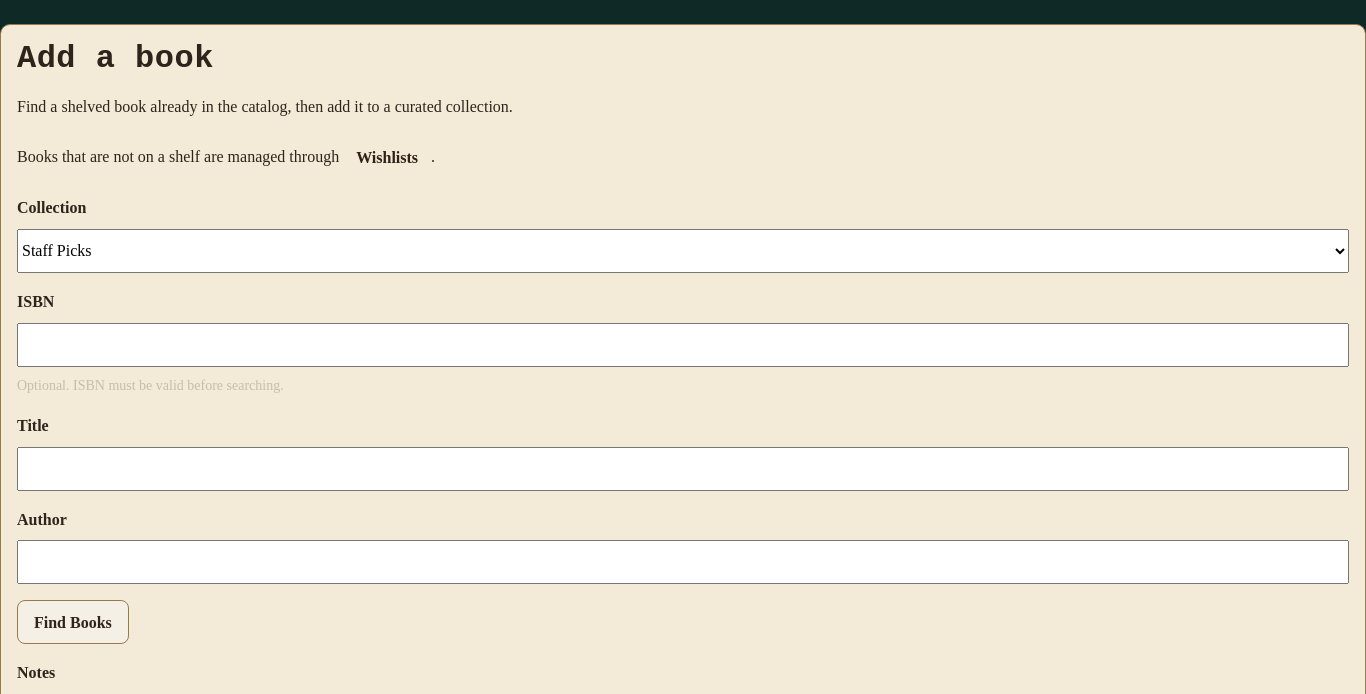
Test: AddCollectionBookControl › rejects an invalid ISBN before searching
Type "123" into the field labelled "ISBN" at point(683, 345), box [17,323,1349,367]
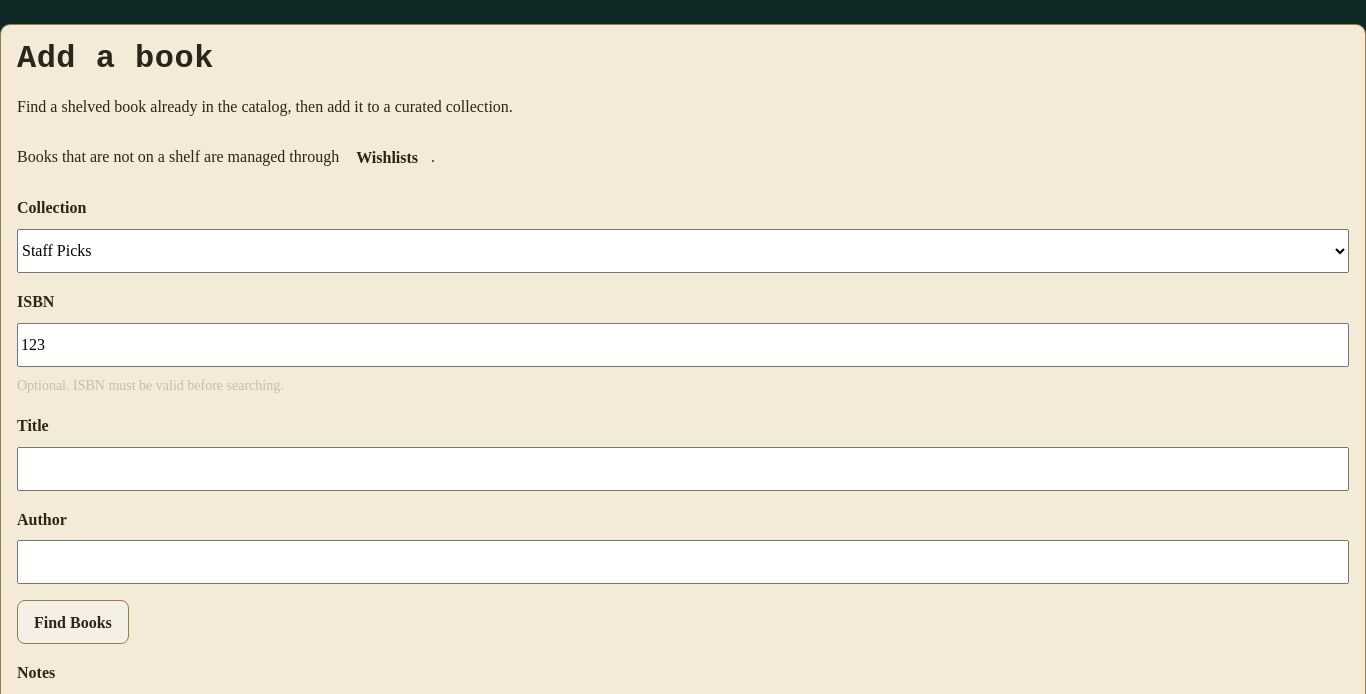
Click the button "Find Books" at point(73, 622), box [17,600,129,644]
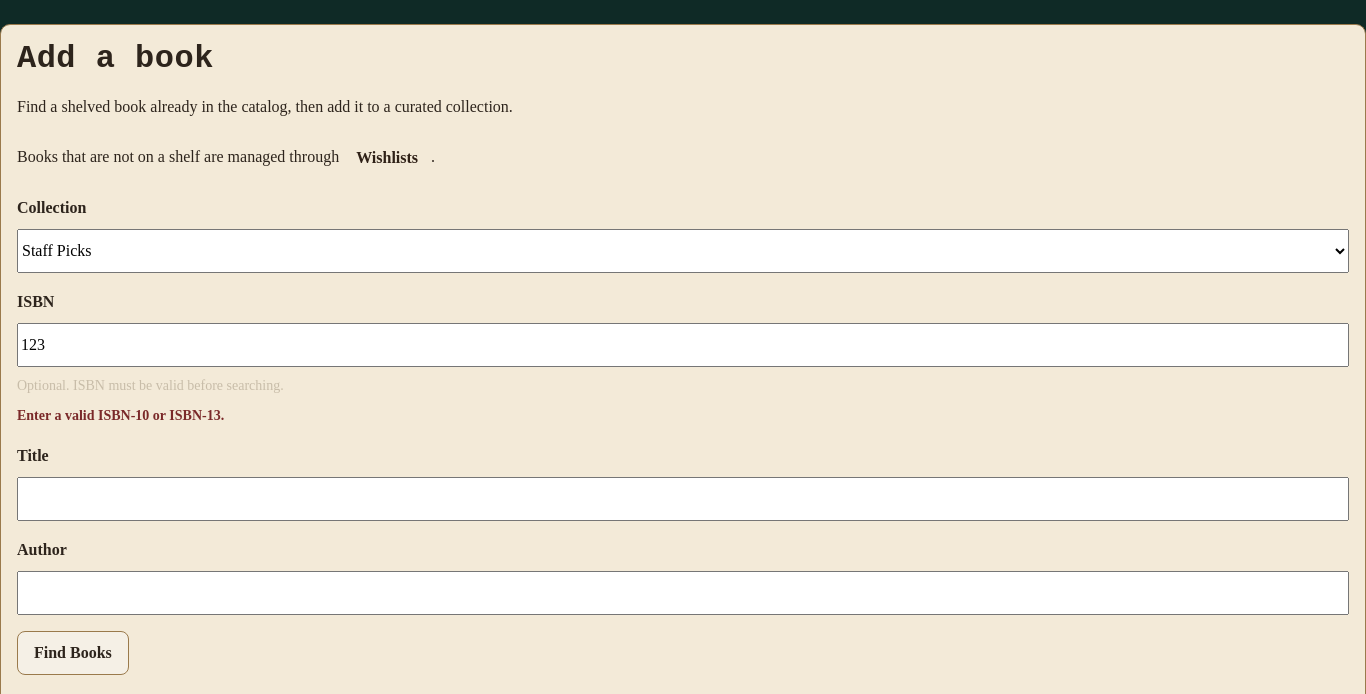
expect the text "Enter a valid ISBN-10 or ISBN-13." is shown: met, box [17,408,224,423]
